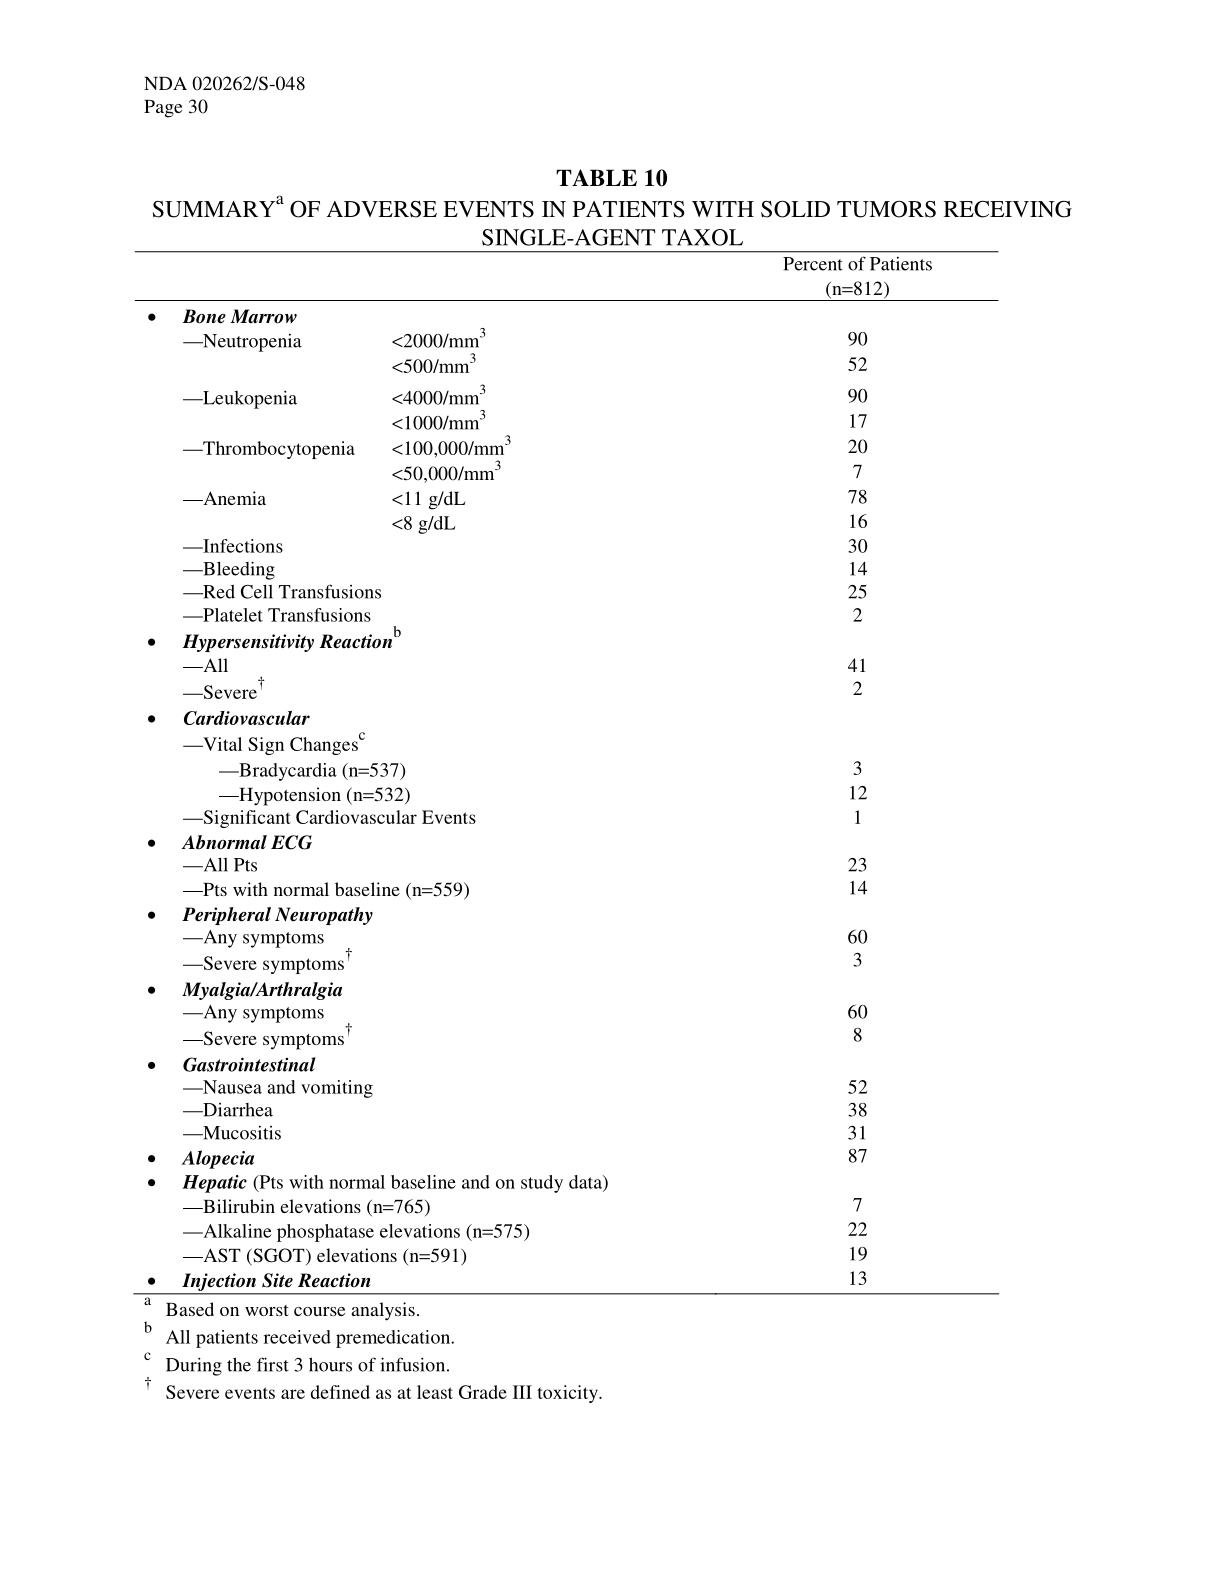partial_lined: (132, 249, 1000, 1296)
